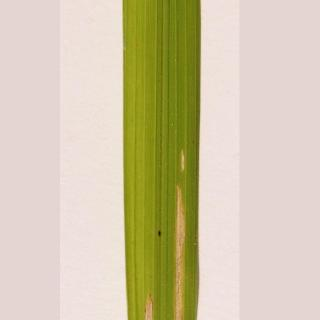Hawar-Daun: (167, 138, 202, 320), (141, 290, 161, 320)
